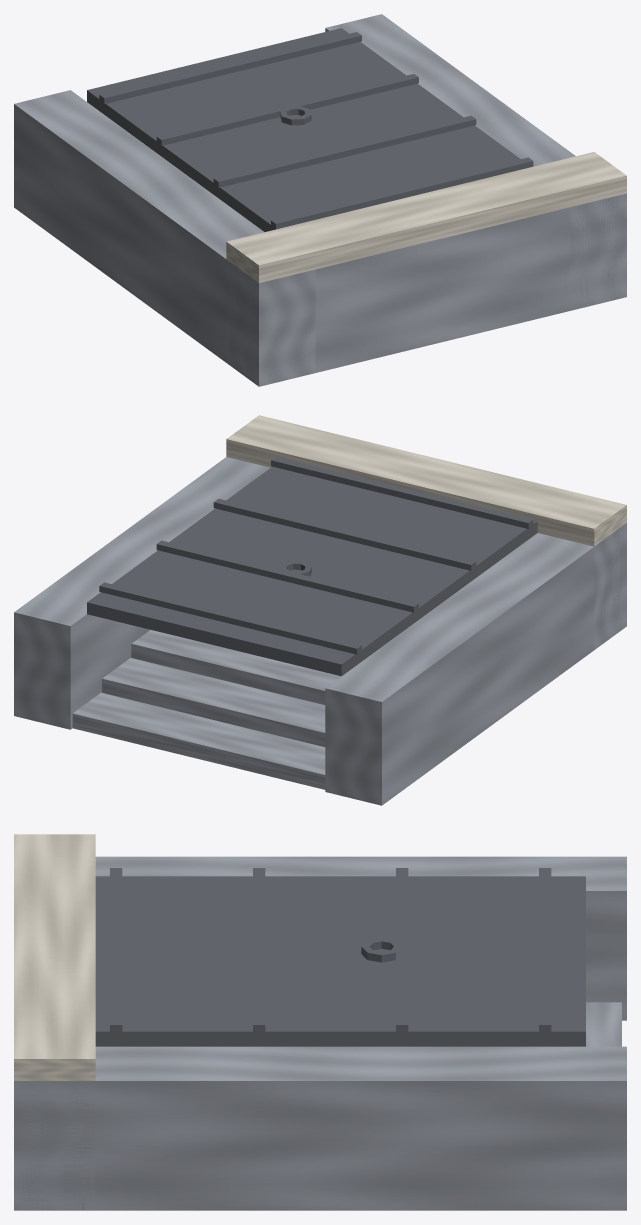
File: vampire-crypt-and-gothic-cathedral-crypt-hatch-03e283c3__23056.glb
3 renders of one model, top to bottom at view 1: azimuth 30°, elevation 25°; view 2: azimuth 150°, elevation 25°; view 3: azimuth 270°, elevation 25°, orthographic. The views are drawn at different scales.
Parts seen in each view (by area): view 1: crypt-hatch, hatch; view 2: crypt-hatch, hatch; view 3: crypt-hatch, hatch.
Part boxes in pixels (x1,y1,x2,y2): crypt-hatch: (14, 14, 626, 386); hatch: (87, 28, 533, 231); crypt-hatch: (14, 415, 626, 805); hatch: (87, 457, 537, 676); crypt-hatch: (14, 834, 626, 1210); hatch: (95, 868, 585, 1046).
Size of the model in its own units: 2.6 by 0.8199 by 3.
3 materials, 2 textured.
